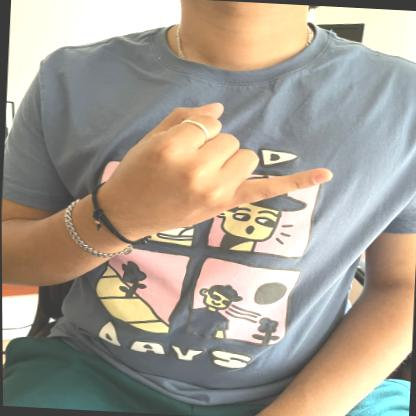J: (93, 90, 342, 238)
